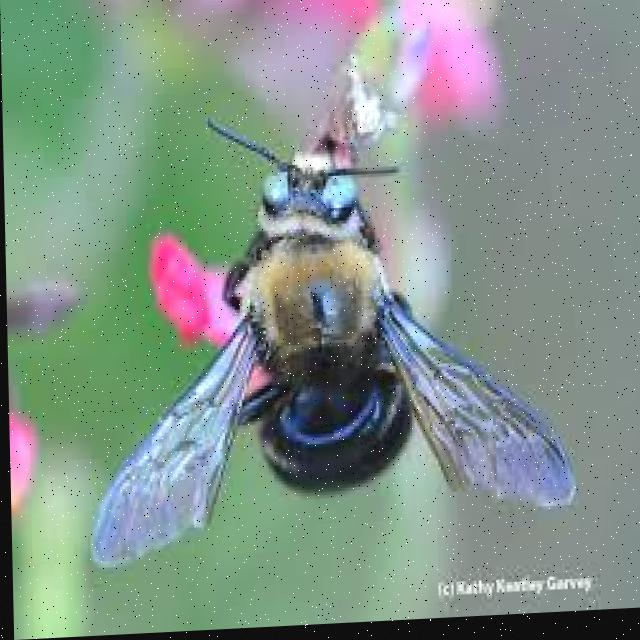Xylocopa: (80, 95, 585, 551)
